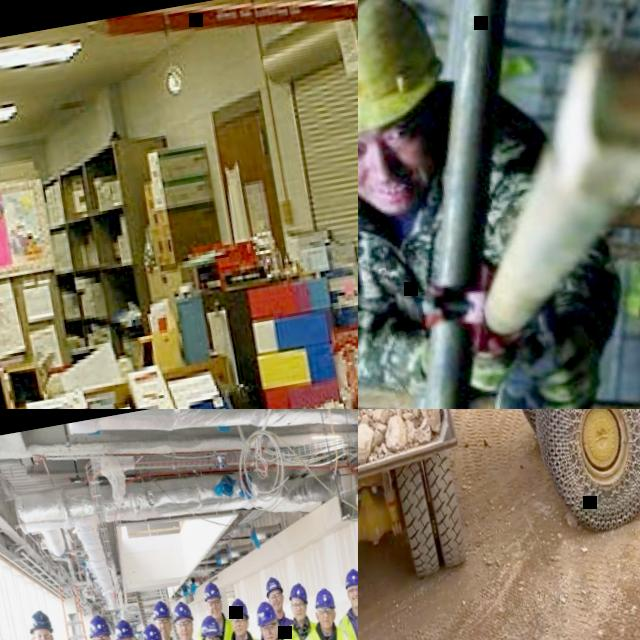Hardhat: (358, 0, 456, 146), (26, 608, 55, 635), (254, 598, 280, 628), (137, 619, 169, 640), (87, 613, 112, 638), (227, 596, 251, 622), (311, 586, 336, 610), (170, 600, 195, 624), (198, 614, 223, 638), (286, 580, 309, 606), (113, 617, 138, 640), (201, 578, 223, 602), (150, 599, 173, 621), (263, 574, 284, 598), (139, 620, 164, 640), (342, 565, 358, 589)
NO-Mask: (358, 135, 451, 221), (318, 616, 338, 630), (233, 622, 248, 636), (208, 606, 223, 620), (293, 608, 308, 621), (178, 629, 194, 640), (271, 600, 285, 612), (263, 631, 281, 640), (160, 628, 172, 639), (349, 594, 358, 607)
NO-Safety Vest: (358, 113, 536, 374)
Person: (358, 0, 640, 409), (270, 577, 352, 640), (188, 577, 239, 640), (262, 572, 296, 636)
Safety Vest: (195, 618, 237, 640), (279, 618, 318, 640), (278, 616, 295, 632)
vehicle: (358, 409, 640, 576), (358, 409, 488, 629)
